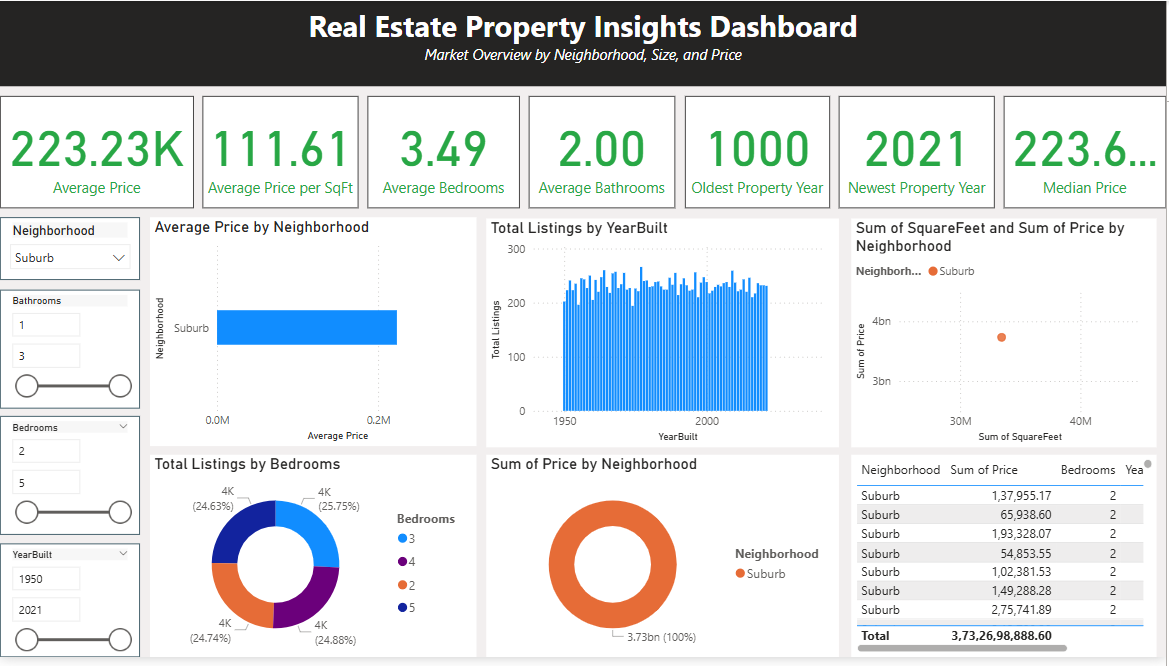

The dashboard page shown, as its layout file describes it:
{"tool":"powerbi","page":{"name":"Page 1","canvas":[1280,720],"ordinal":0},"visuals":[{"type":"textbox","box":[0,0,1280.3,93.3],"z":0},{"type":"card","fields":{"Values":["housing_price_dataset.Average Price"]},"box":[0,104.3,212.7,123.5],"z":1000},{"type":"card","fields":{"Values":["housing_price_dataset.Average Price per SqFt"]},"box":[222.3,104.3,171.5,123.5],"z":2000},{"type":"card","fields":{"Values":["housing_price_dataset.Average Bedrooms"]},"box":[403.4,104.3,167.4,123.5],"z":3000},{"type":"card","fields":{"Values":["housing_price_dataset.Average Bathrooms"]},"box":[580.4,104.3,160.5,123.5],"z":4000},{"type":"card","fields":{"Values":["housing_price_dataset.Oldest Property Year"]},"box":[752,104.3,159.2,123.5],"z":5000},{"type":"card","fields":{"Values":["housing_price_dataset.Newest Property Year"]},"box":[920.8,104.3,171.5,123.5],"z":6000},{"type":"card","fields":{"Values":["housing_price_dataset.Median Price"]},"box":[1101.9,104.3,178.4,123.5],"z":7000},{"type":"slicer","fields":{"Values":["housing_price_dataset.Neighborhood"]},"box":[0,237.4,153.7,68.6],"z":8000},{"type":"slicer","box":[0,317,153.7,130.4],"z":9000},{"type":"slicer","fields":{"Values":["housing_price_dataset.Bedrooms"]},"box":[0,455.6,153.7,130.4],"z":10000},{"type":"slicer","fields":{"Values":["housing_price_dataset.YearBuilt"]},"box":[0,595.5,153.7,124.9],"z":11000},{"type":"barChart","fields":{"Y":["housing_price_dataset.Average Price"],"Category":["housing_price_dataset.Neighborhood"]},"box":[164.7,237.4,358.1,251.1],"z":12000},{"type":"columnChart","fields":{"Category":["housing_price_dataset.YearBuilt"],"Y":["housing_price_dataset.Total Listings"]},"box":[533.8,238.8,387,251.1],"z":13000},{"type":"scatterChart","fields":{"X":["Sum(housing_price_dataset.SquareFeet)"],"Y":["Sum(housing_price_dataset.Price)"],"Series":["housing_price_dataset.Neighborhood"]},"box":[934.5,238.8,334.8,251.1],"z":14000},{"type":"donutChart","fields":{"Category":["housing_price_dataset.Bedrooms"],"Y":["housing_price_dataset.Total Listings"]},"box":[165,498,358,222],"z":15000},{"type":"donutChart","fields":{"Category":["housing_price_dataset.Neighborhood"],"Y":["Sum(housing_price_dataset.Price)"]},"box":[534,498,387,222],"z":16000},{"type":"tableEx","fields":{"Values":["housing_price_dataset.Neighborhood","Sum(housing_price_dataset.Price)","housing_price_dataset.Bedrooms","housing_price_dataset.YearBuilt","housing_price_dataset.SquareFeet"]},"box":[934,498,335,222],"z":17000}]}

Visuals, with their boxes in screenshot pixels (x1, y1, x2, y2), scaled from the page's 1280x720 canvas onto the 1169x666 screenshot:
textbox: <bbox>0, 0, 1168, 86</bbox>
card - housing_price_dataset.Average Price: <bbox>0, 96, 194, 211</bbox>
card - housing_price_dataset.Average Price per SqFt: <bbox>203, 96, 360, 211</bbox>
card - housing_price_dataset.Average Bedrooms: <bbox>368, 96, 521, 211</bbox>
card - housing_price_dataset.Average Bathrooms: <bbox>530, 96, 677, 211</bbox>
card - housing_price_dataset.Oldest Property Year: <bbox>687, 96, 832, 211</bbox>
card - housing_price_dataset.Newest Property Year: <bbox>841, 96, 998, 211</bbox>
card - housing_price_dataset.Median Price: <bbox>1006, 96, 1168, 211</bbox>
slicer - housing_price_dataset.Neighborhood: <bbox>0, 220, 140, 283</bbox>
slicer: <bbox>0, 293, 140, 414</bbox>
slicer - housing_price_dataset.Bedrooms: <bbox>0, 421, 140, 542</bbox>
slicer - housing_price_dataset.YearBuilt: <bbox>0, 551, 140, 665</bbox>
barChart - housing_price_dataset.Average Price x housing_price_dataset.Neighborhood: <bbox>150, 220, 477, 452</bbox>
columnChart - housing_price_dataset.YearBuilt x housing_price_dataset.Total Listings: <bbox>488, 221, 841, 453</bbox>
scatterChart - Sum(housing_price_dataset.SquareFeet) x Sum(housing_price_dataset.Price): <bbox>853, 221, 1159, 453</bbox>
donutChart - housing_price_dataset.Bedrooms x housing_price_dataset.Total Listings: <bbox>151, 461, 478, 665</bbox>
donutChart - housing_price_dataset.Neighborhood x Sum(housing_price_dataset.Price): <bbox>488, 461, 841, 665</bbox>
tableEx - housing_price_dataset.Neighborhood x Sum(housing_price_dataset.Price): <bbox>853, 461, 1159, 665</bbox>
